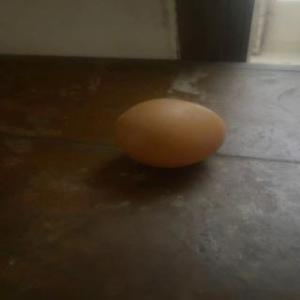egg: (110, 96, 230, 172)
